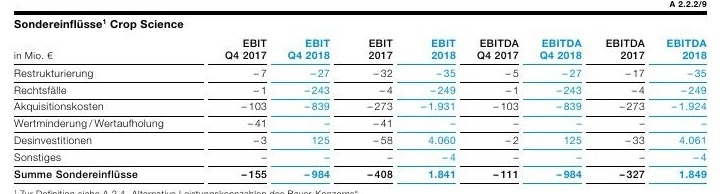table: (0, 0, 723, 194)
